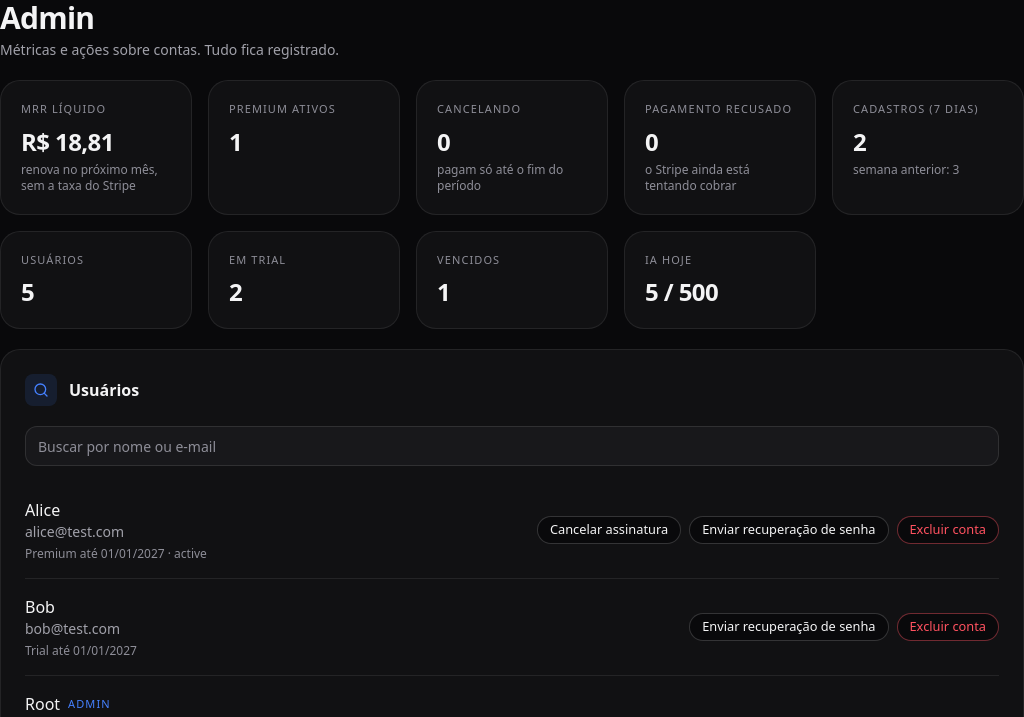
Test case: Admin › mantém a tela montada e avisa quando a releitura falha após uma ação bem-sucedida
The image size is (1024, 717).
Expected: the text "alice@test.com" is shown, [25,522,124,541]
Click the button "Excluir conta" in the row of "alice@test.com".
click(948, 530)  # box [896,516,999,544]
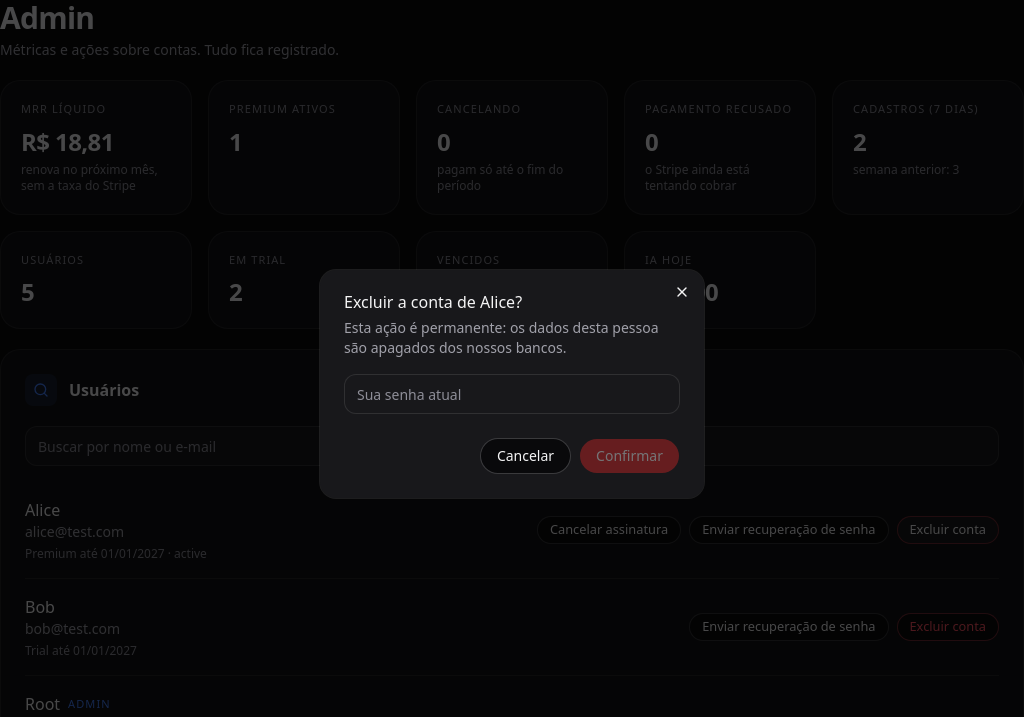
Type "secret123" into the password field labelled "Sua senha atual".
click(512, 394); type("secret123")  # box [344,374,680,414]
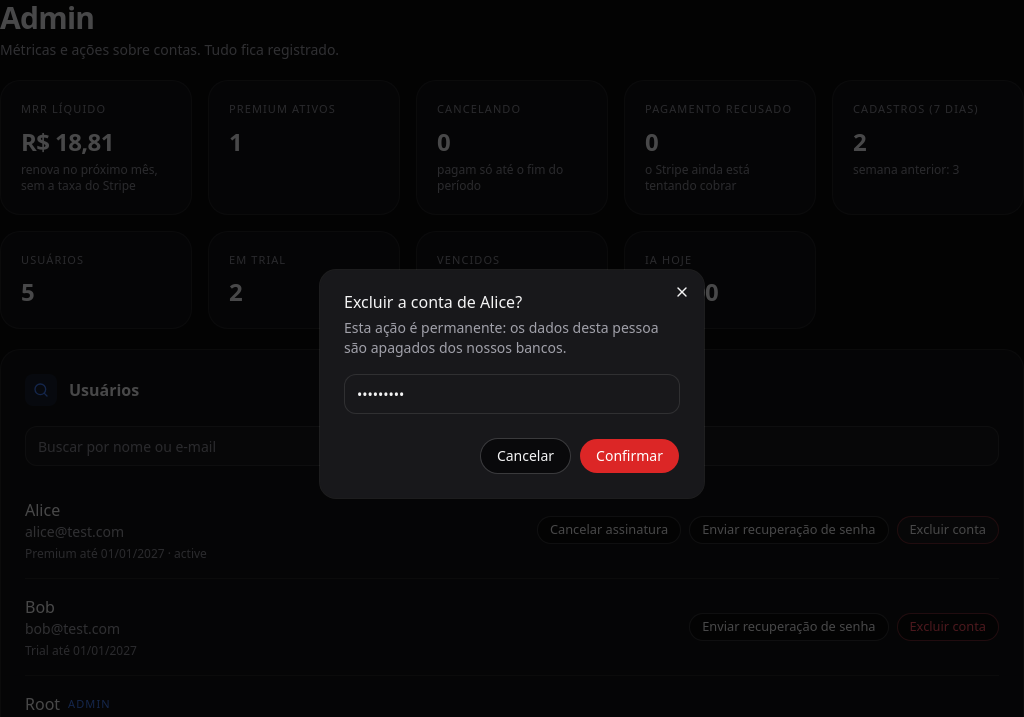
Click the button "Confirmar".
click(630, 456)  # box [579,438,680,474]
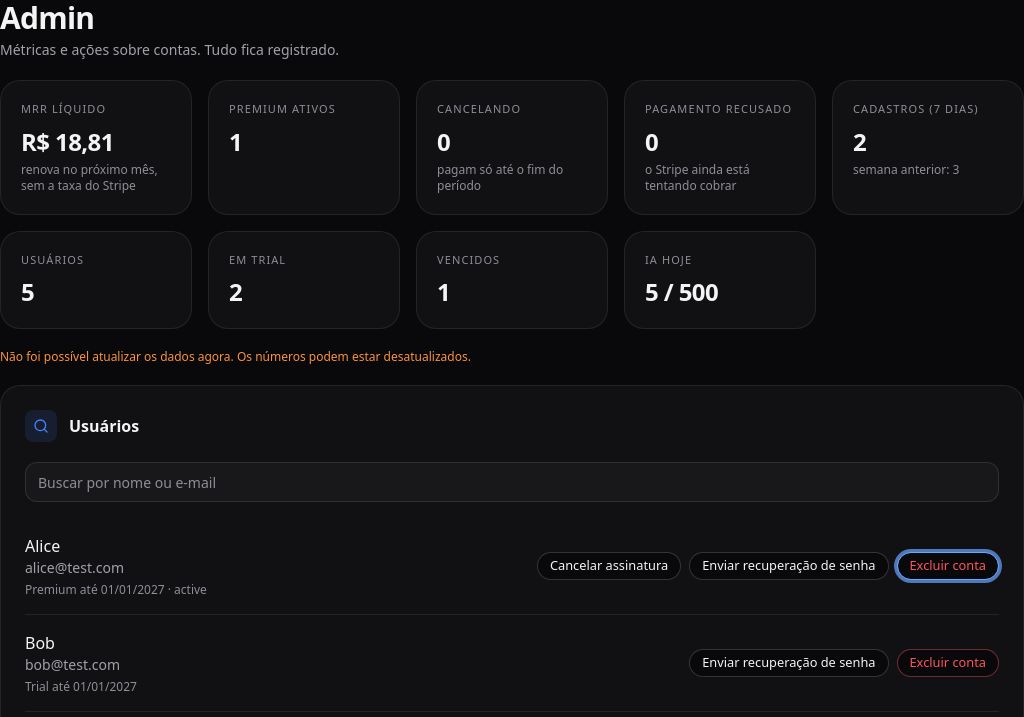
Expected: the text "alice@test.com" is shown, [25,558,124,577]
Result: the text "Não foi possível atualizar os dados" is shown at [0,348,471,365]
